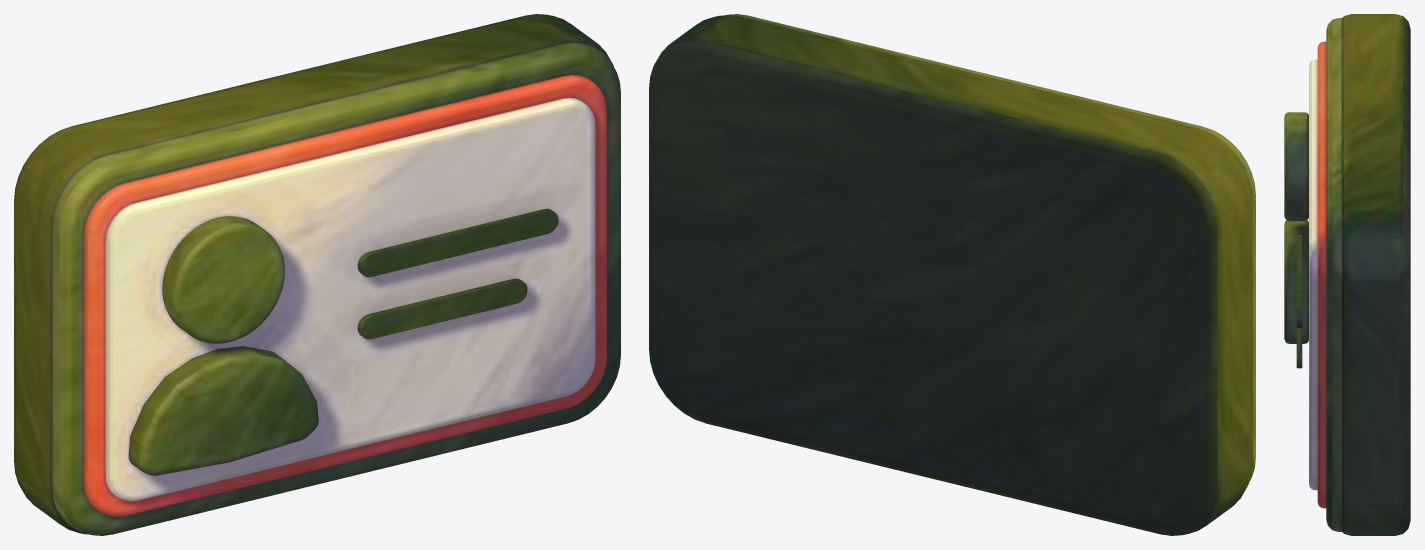
The model's file is profile.glb.
3 views of the same model, side by side, from view 1: azimuth 30°, elevation 25°; view 2: azimuth 150°, elevation 25°; view 3: azimuth 270°, elevation 25° (orthographic). The views are drawn at different scales.
Parts seen in each view (by area): view 1: Continuous coral trim; view 2: Continuous coral trim; view 3: Continuous coral trim.
Boxes of the visible parts, x1,y1,x2,y2 form: Continuous coral trim: [14, 14, 620, 535]; Continuous coral trim: [649, 14, 1255, 535]; Continuous coral trim: [1284, 14, 1410, 535].
Bounding box in the file's own units: 2.41 × 1.55 × 0.5457.
Materials: 1 (1 with a texture image).
